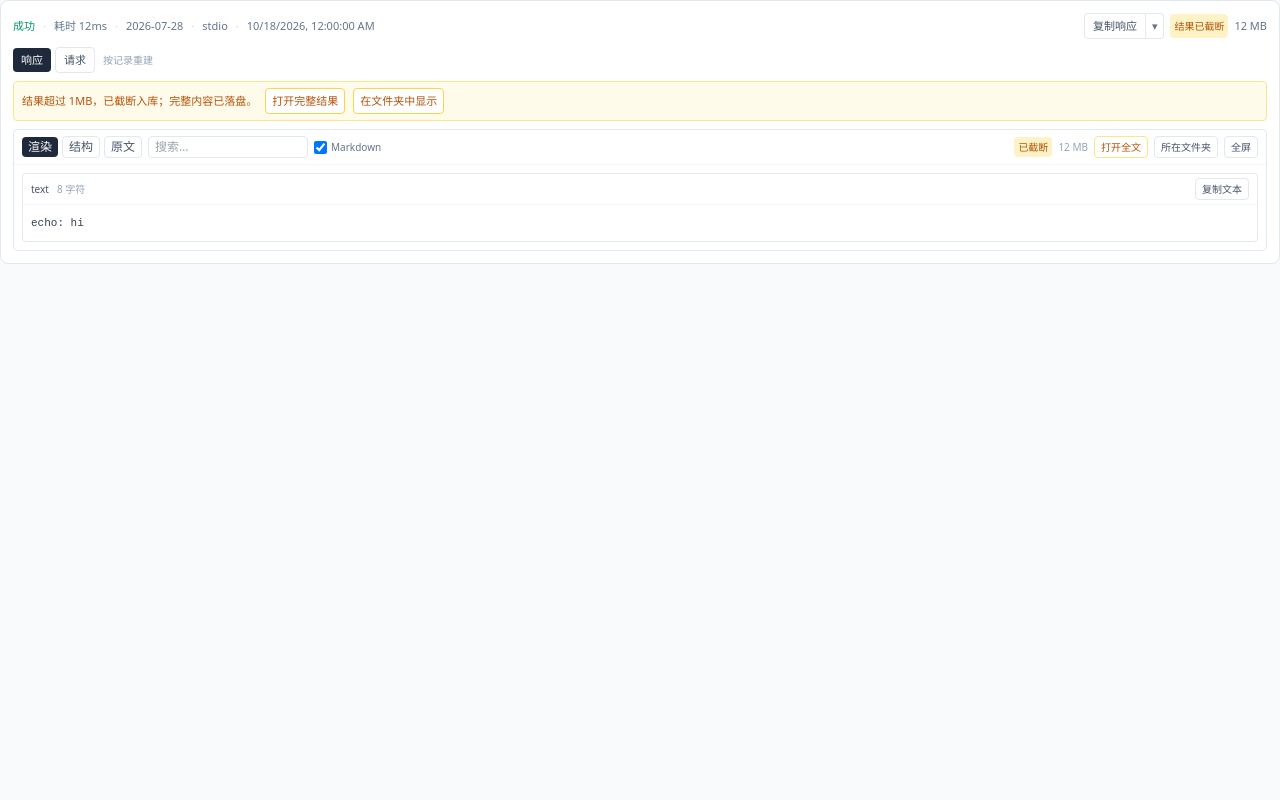
Scenario: ResultViewer › 10MB+ 截断结果打开全文前也需要确认
Click the button "打开完整结果".
click(305, 101)  # box x1=265 y1=88 x2=345 y2=114
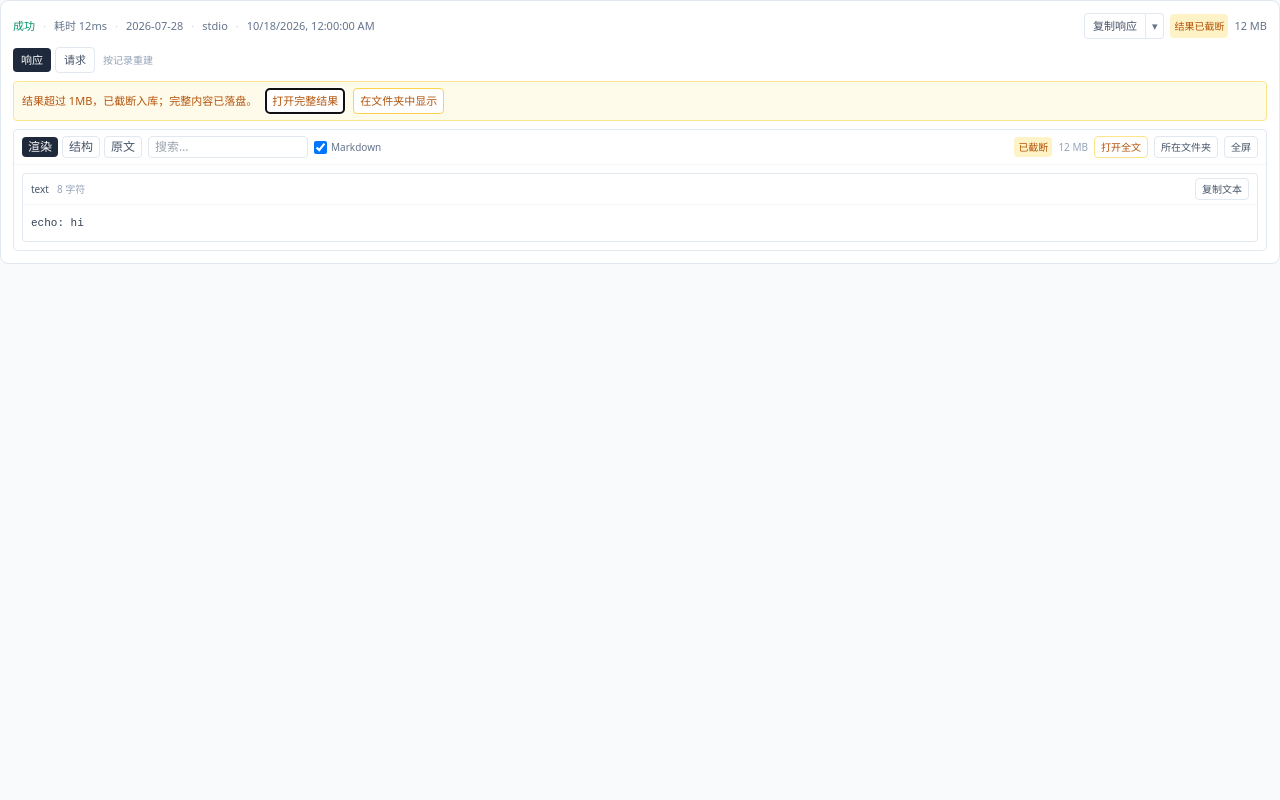
Click the button "打开完整结果".
click(305, 101)  # box x1=265 y1=88 x2=345 y2=114
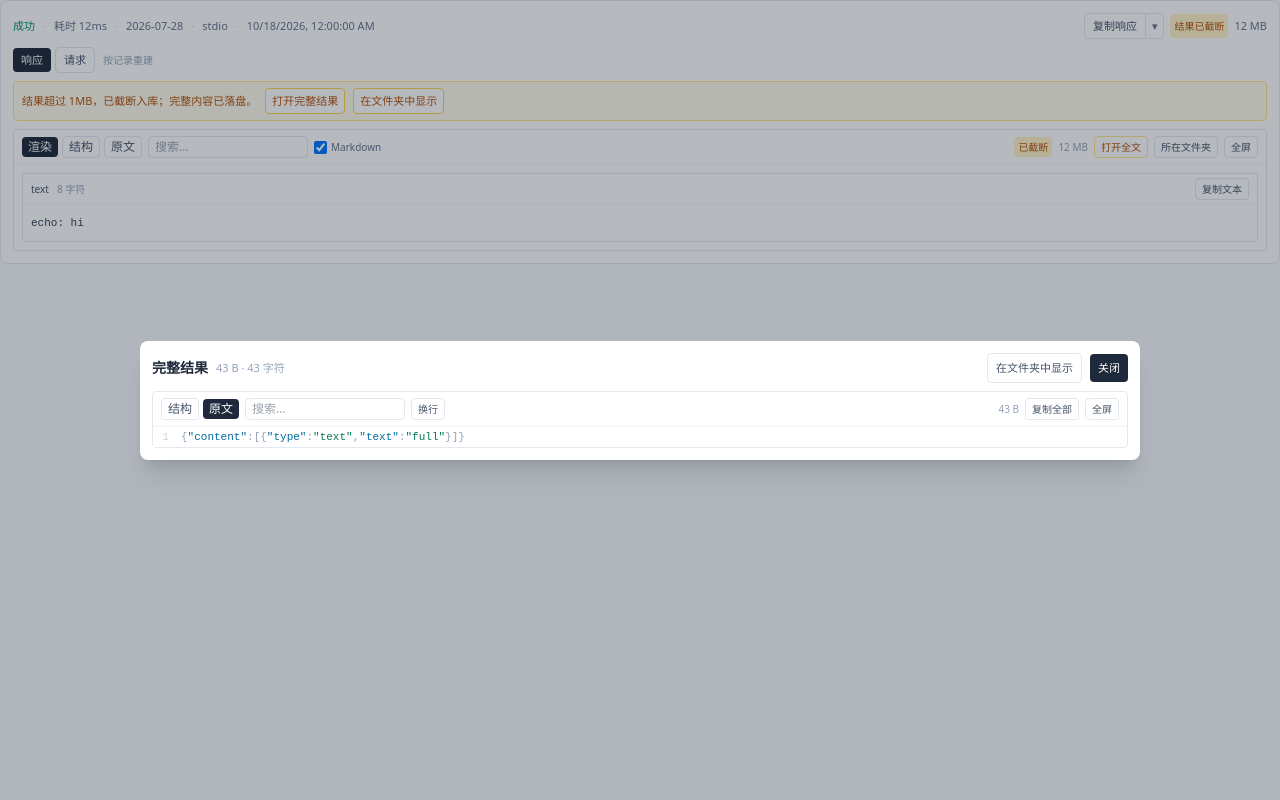
Result: the heading "完整结果" is shown at x1=152 y1=358 x2=208 y2=378
